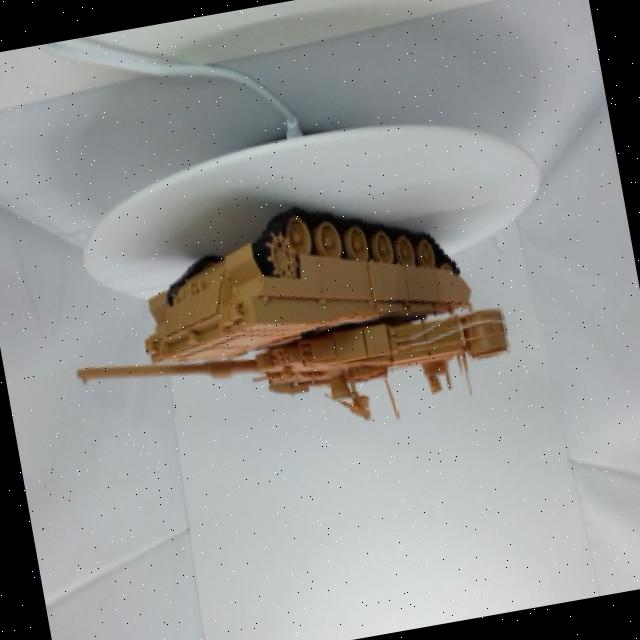korea tank: (52, 170, 528, 494)
